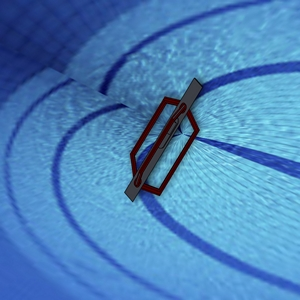submarine: (94, 56, 231, 209)
